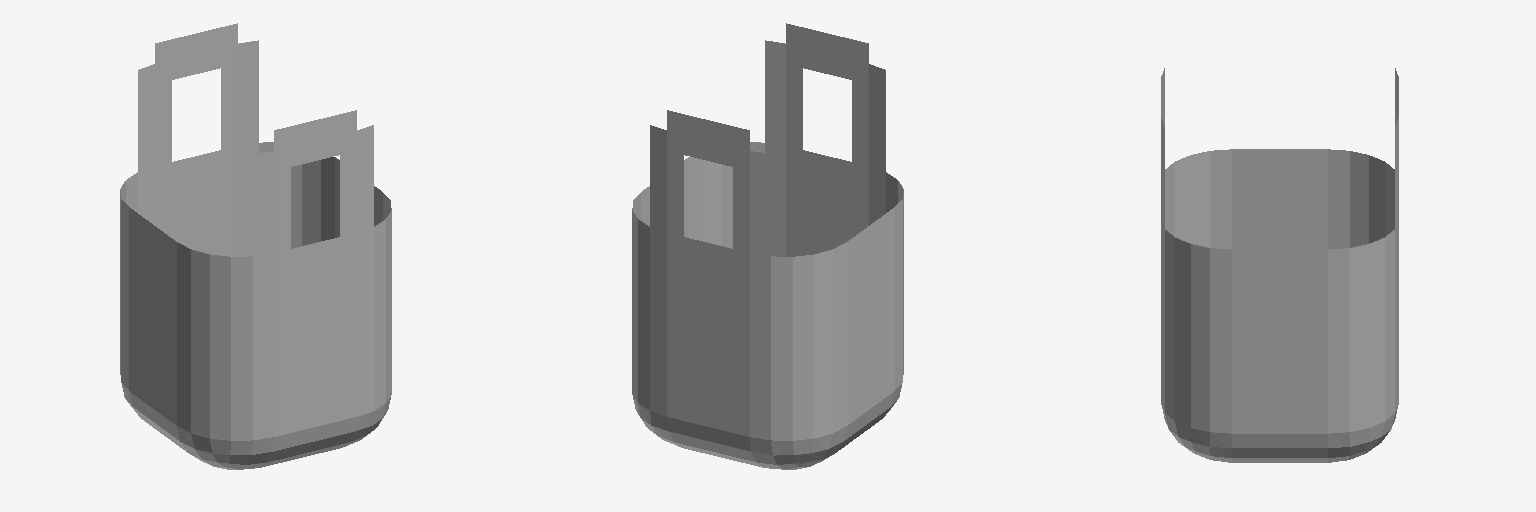
Rendered from bag1_15.obj.
3 views of the same model, side by side, from view 1: azimuth 30°, elevation 25°; view 2: azimuth 150°, elevation 25°; view 3: azimuth 270°, elevation 25° (orthographic).
Visible parts, largest first — view 1: Cube-0-1.030_Cube.145; view 2: Cube-0-1.030_Cube.145; view 3: Cube-0-1.030_Cube.145.
Boxes of the visible parts, <box> form: Cube-0-1.030_Cube.145: <box>120,23,391,469</box>; Cube-0-1.030_Cube.145: <box>632,23,903,469</box>; Cube-0-1.030_Cube.145: <box>1161,68,1398,462</box>.
Bounding box in the file's own units: 2 × 3.33 × 2.